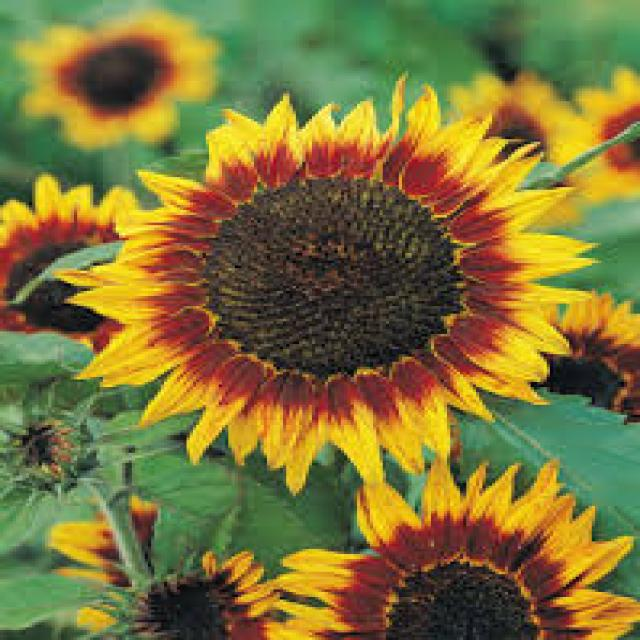sunflower: (42, 76, 607, 503), (254, 447, 640, 640), (2, 172, 169, 370), (16, 8, 233, 152), (432, 65, 589, 232), (485, 285, 640, 427), (112, 544, 296, 640), (40, 496, 163, 592), (571, 68, 640, 209)
